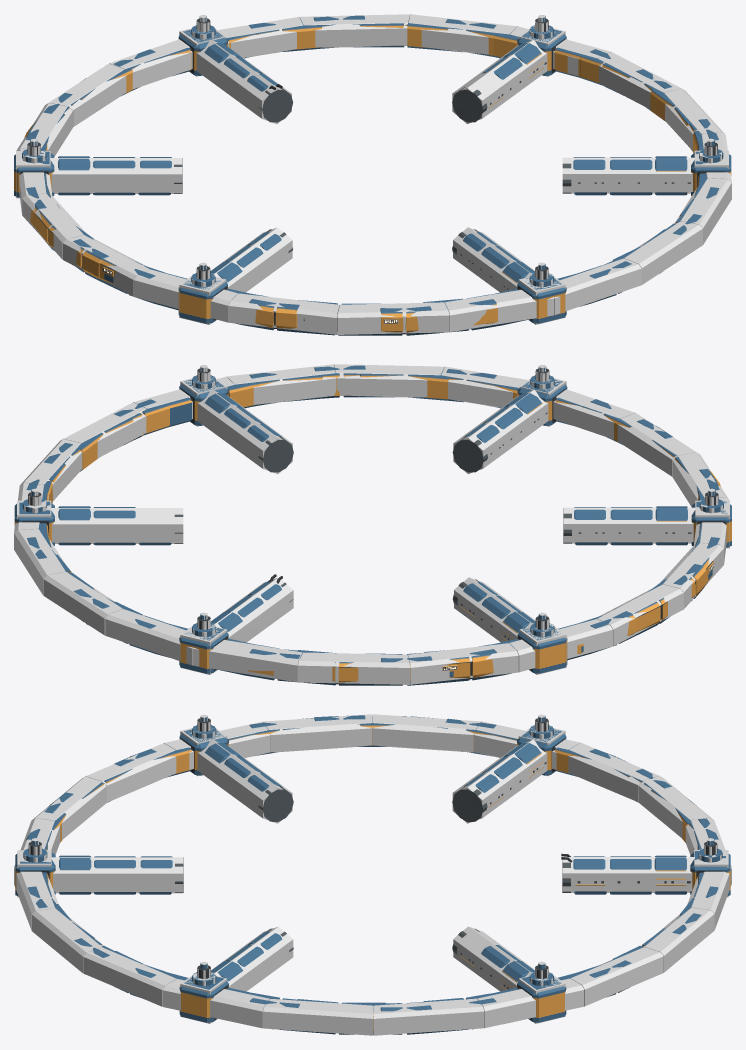
Rendered from SM_Ship_Station_02.fbx.
3 renders of one model, top to bottom at view 1: azimuth 30°, elevation 25°; view 2: azimuth 150°, elevation 25°; view 3: azimuth 270°, elevation 25°, orthographic.
Parts seen in each view (by area): view 1: SM_Ship_Station_02_ConvexHulls, SM_Ship_Station_02_LOD0; view 2: SM_Ship_Station_02_ConvexHulls, SM_Ship_Station_02_LOD0; view 3: SM_Ship_Station_02_ConvexHulls, SM_Ship_Station_02_LOD0.
Boxes of the visible parts, x1,y1,x2,y2 form: SM_Ship_Station_02_ConvexHulls: (16, 14, 731, 334); SM_Ship_Station_02_LOD0: (14, 15, 731, 335); SM_Ship_Station_02_ConvexHulls: (14, 364, 729, 684); SM_Ship_Station_02_LOD0: (14, 365, 731, 685); SM_Ship_Station_02_ConvexHulls: (14, 714, 731, 1035); SM_Ship_Station_02_LOD0: (15, 715, 730, 1034).
Bounding box in the file's own units: 50450 × 50450 × 4146.
Materials: 1 (1 with a texture image).
